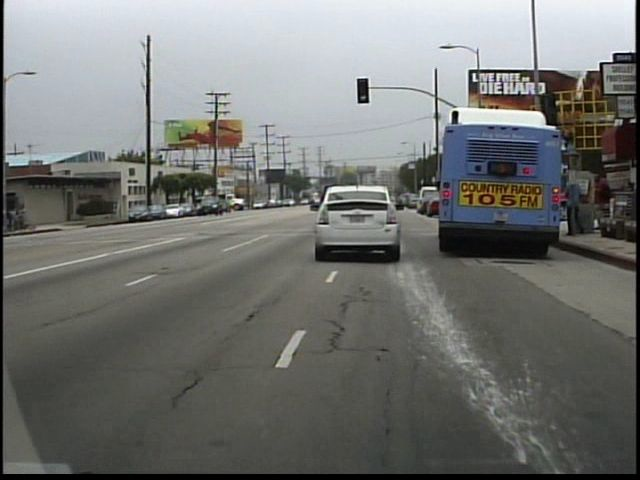person: (559, 173, 586, 241), (111, 195, 120, 219)
